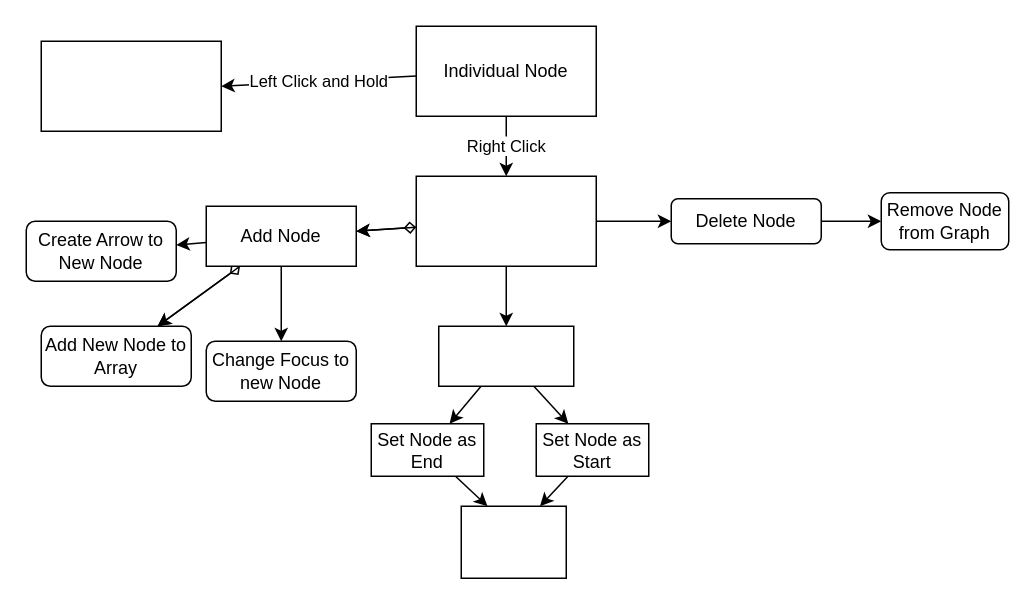
This 1035x605 diagram has some shape labels left out. The centre of each missing label's shape, as x and y in pixels:
Custom Context / Right Click Menu: the point at 505,220
Drag around Node: the point at 130,85
Set / remove flag: the point at 513,541
Set/Remove as Special Node: the point at 505,355
